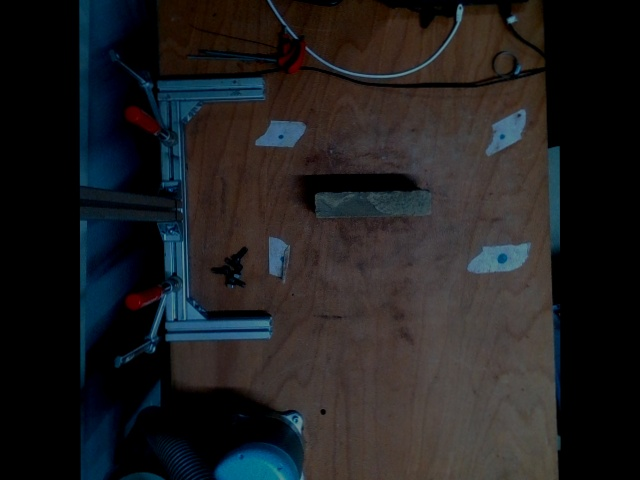brick-side: (317, 190, 430, 215)
